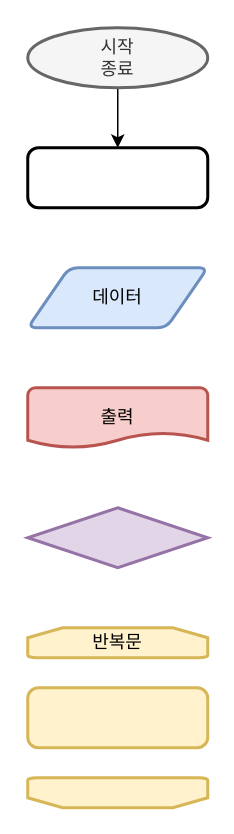
The diagram is 234 pixels wide and 834 high, and some of its shapes have lost their labels. The shapes that lost their labels are listed below. From the top down, each one's centre as x and y in pixels, then its label:
At (117,177): "처리".
At (117,537): "조건식".
